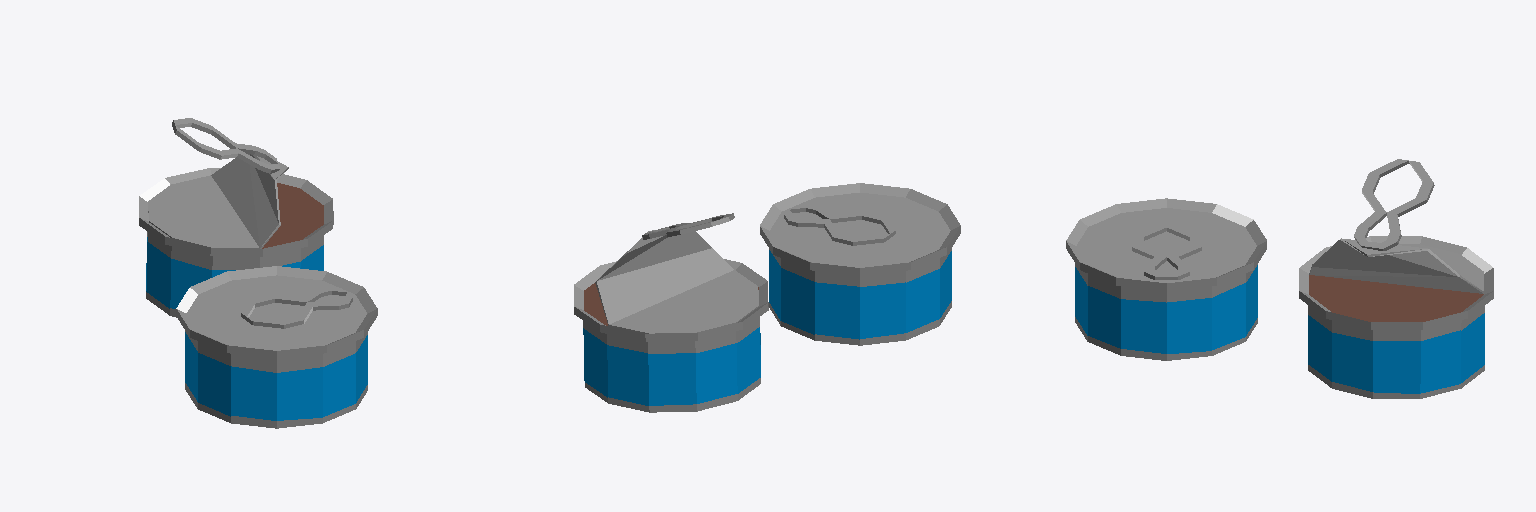
3 renders of one model, left to right at view 1: azimuth 30°, elevation 25°; view 2: azimuth 150°, elevation 25°; view 3: azimuth 270°, elevation 25°, orthographic.
Visible parts, largest first — view 1: group[number redacted], group[number redacted], group[number redacted], group[number redacted], group[number redacted]; view 2: group[number redacted], group[number redacted], group[number redacted], group[number redacted], group[number redacted]; view 3: group[number redacted], group[number redacted], group[number redacted], group[number redacted], group[number redacted].
Part boxes in pixels (x1,y1,x2,y2): group[number redacted]: (176, 266, 377, 428); group[number redacted]: (139, 168, 333, 317); group[number redacted]: (148, 154, 288, 248); group[number redacted]: (241, 287, 352, 328); group[number redacted]: (172, 118, 279, 173); group[number redacted]: (760, 183, 960, 345); group[number redacted]: (574, 259, 768, 412); group[number redacted]: (595, 230, 758, 333); group[number redacted]: (784, 204, 895, 245); group[number redacted]: (642, 213, 734, 239); group[number redacted]: (1066, 198, 1266, 360); group[number redacted]: (1299, 236, 1493, 398); group[number redacted]: (1309, 238, 1483, 293); group[number redacted]: (1354, 159, 1434, 250); group[number redacted]: (1132, 227, 1201, 279).
Size of the model in its own units: 0.9767 by 0.6674 by 1.47.